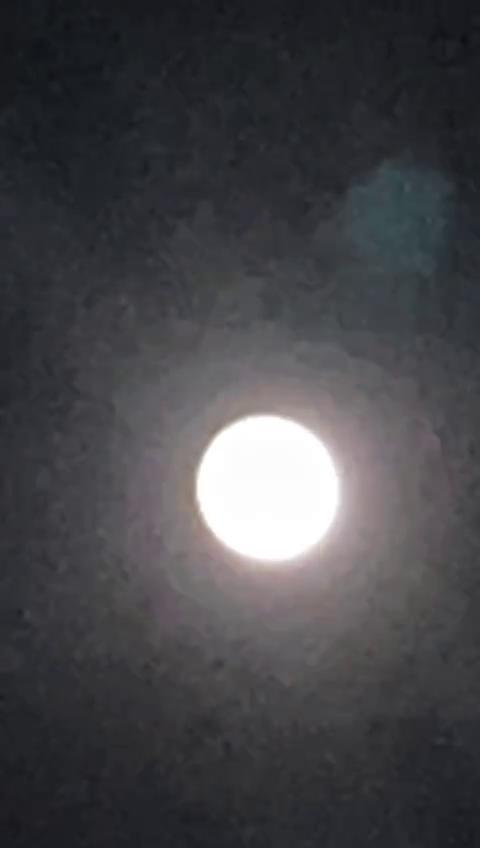moon: (158, 370, 330, 561)
